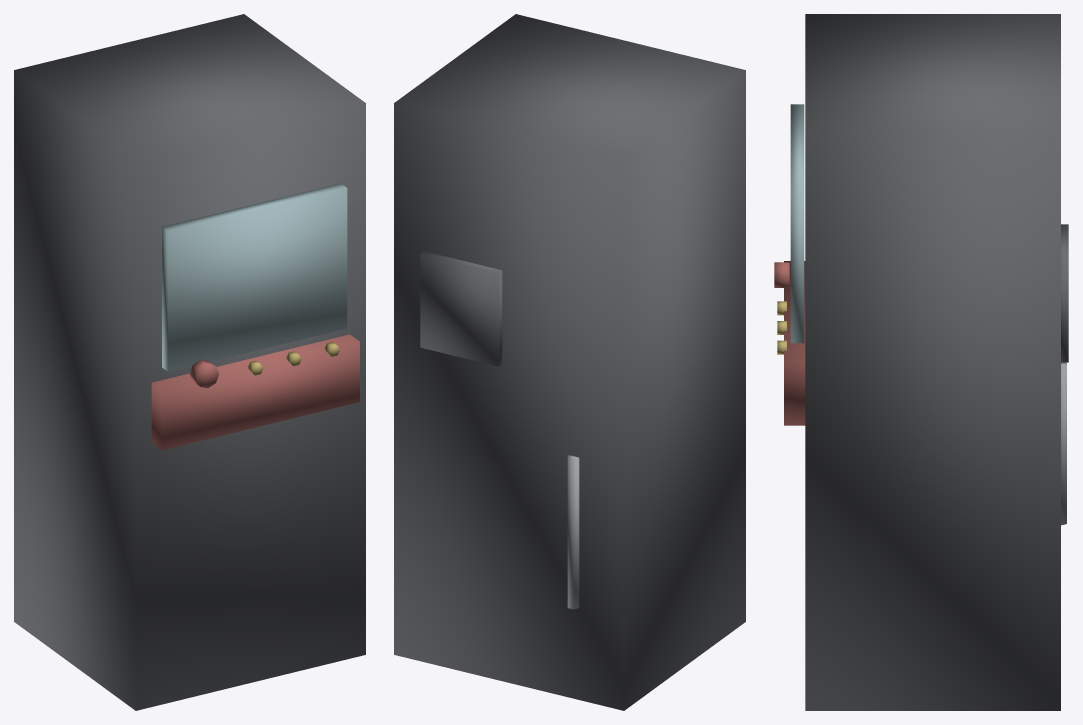
File: cocktail_arcade__service.glb
3 renders of one model, left to right at view 1: azimuth 30°, elevation 25°; view 2: azimuth 150°, elevation 25°; view 3: azimuth 270°, elevation 25°, orthographic. The views are drawn at different scales.
Visible parts, largest first — view 1: world; view 2: world; view 3: world.
Part boxes in pixels (<box>): world: <box>14,14,365,710</box>; world: <box>394,14,745,710</box>; world: <box>774,14,1068,710</box>.
Size of the model in its own units: 0.72 by 1.65 by 0.7603.
